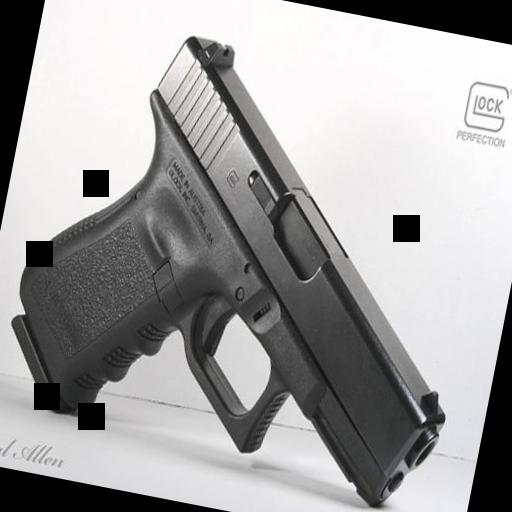Handgun: (0, 9, 506, 512)
